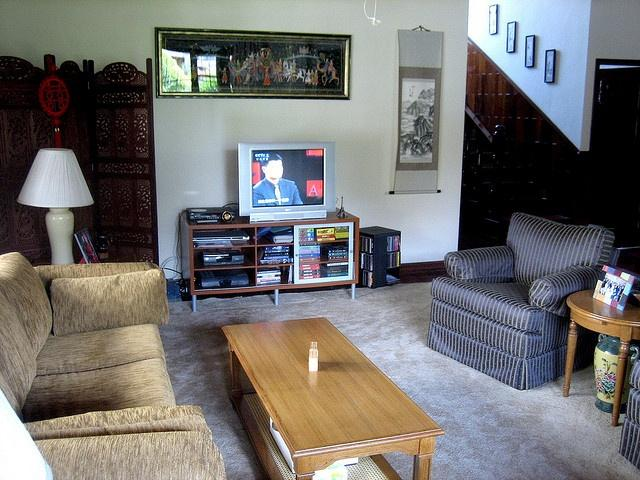AIO PC-Monitor-TV: (236, 140, 335, 219)
Meja: (221, 315, 444, 479)
Rak: (189, 215, 359, 292)
